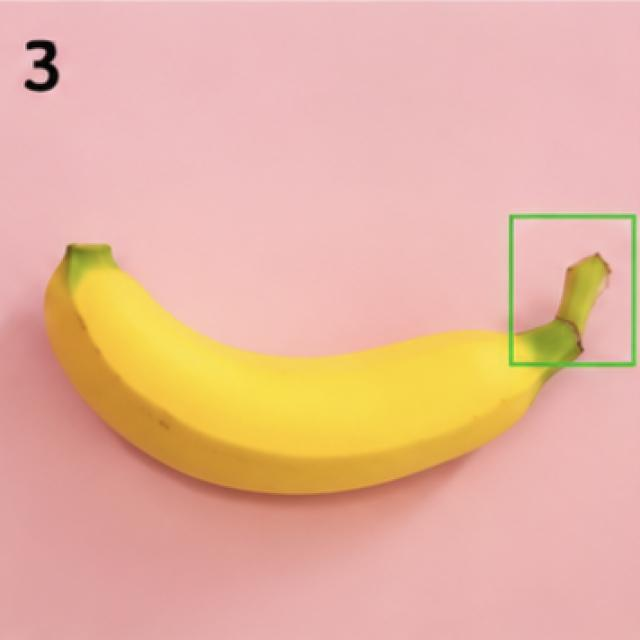Fruit-Stem-Detection: (499, 202, 638, 371), (516, 249, 615, 375)
